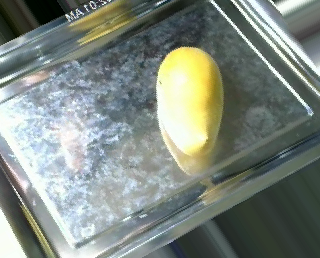Mango: (154, 46, 224, 156)
